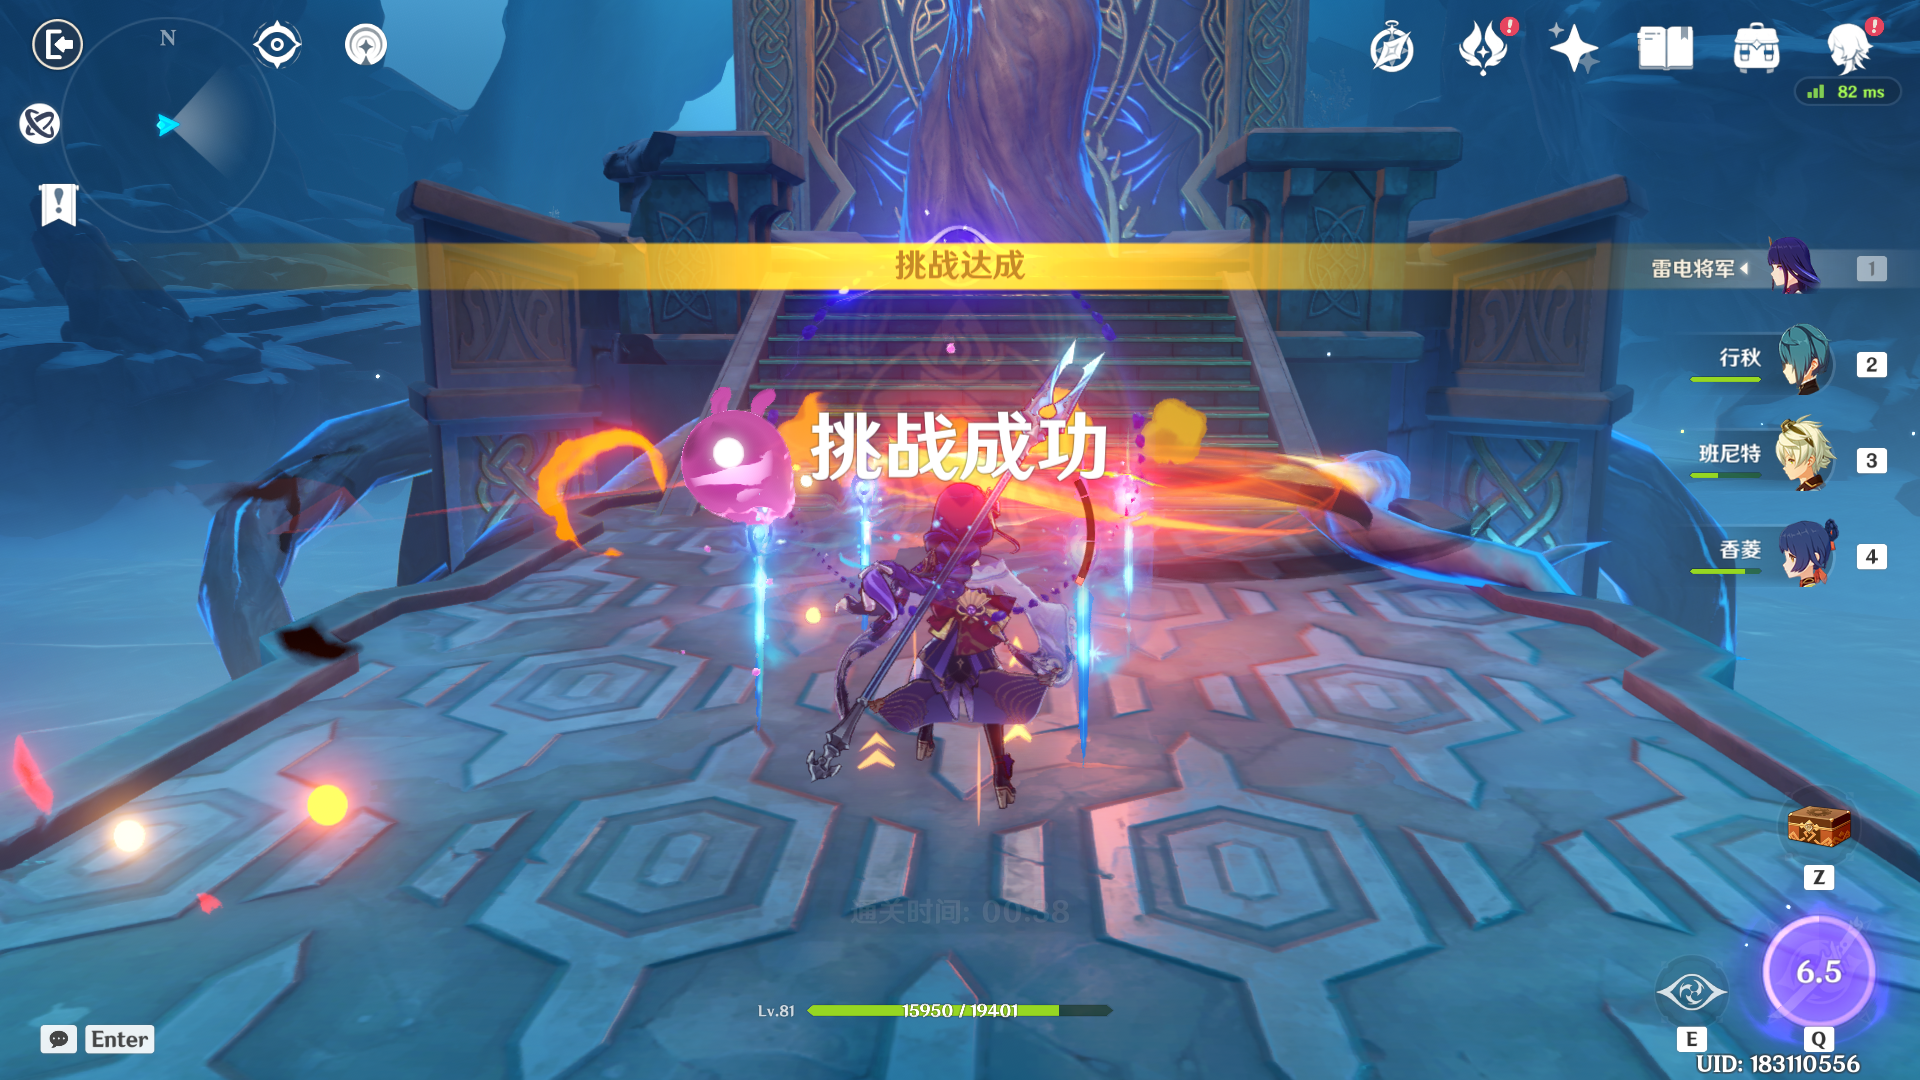character: (823, 464, 1088, 858)
